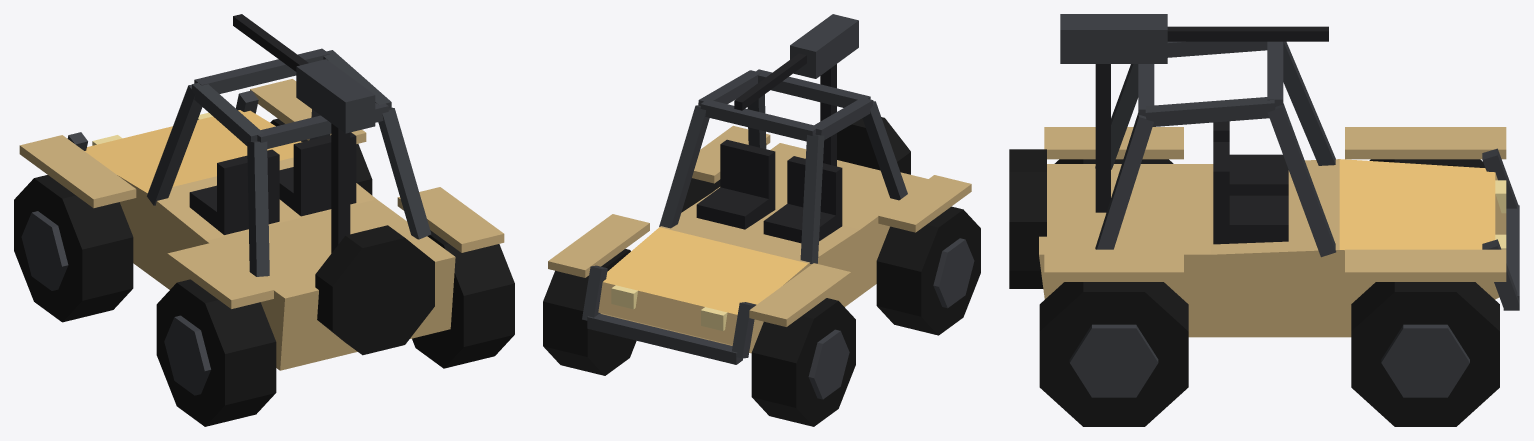
Rendered from scout_buggy.glb.
3 renders of one model, left to right at view 1: azimuth 30°, elevation 25°; view 2: azimuth 150°, elevation 25°; view 3: azimuth 270°, elevation 25°, orthographic. The views are drawn at different scales.
Parts seen in each view (by area): view 1: scout_buggy; view 2: scout_buggy; view 3: scout_buggy.
Boxes of the visible parts, <box> form: scout_buggy: <box>14,14,514,426</box>; scout_buggy: <box>543,14,980,426</box>; scout_buggy: <box>1009,14,1519,426</box>.
Bounding box in the file's own units: 0.71 × 0.6736 × 0.95.
